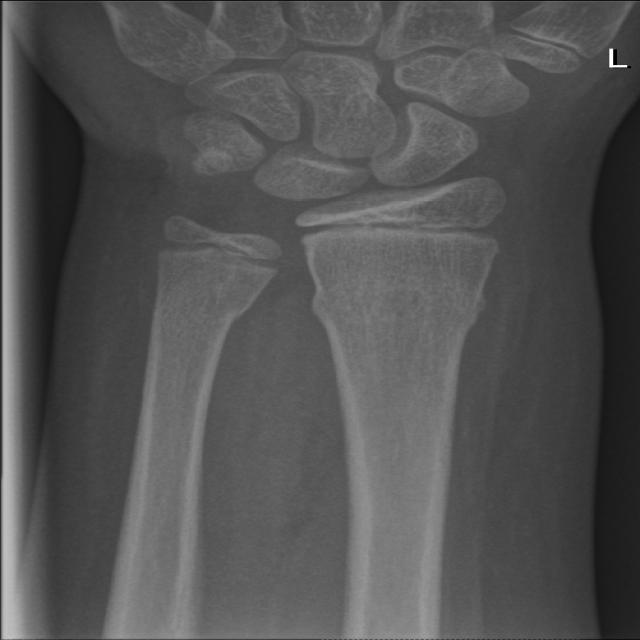radius fracture: (295, 250, 506, 357)
ulna fracture: (207, 252, 276, 374)
